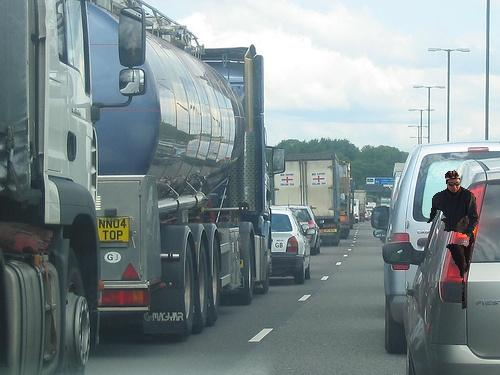tampered: (428, 171, 479, 309)
